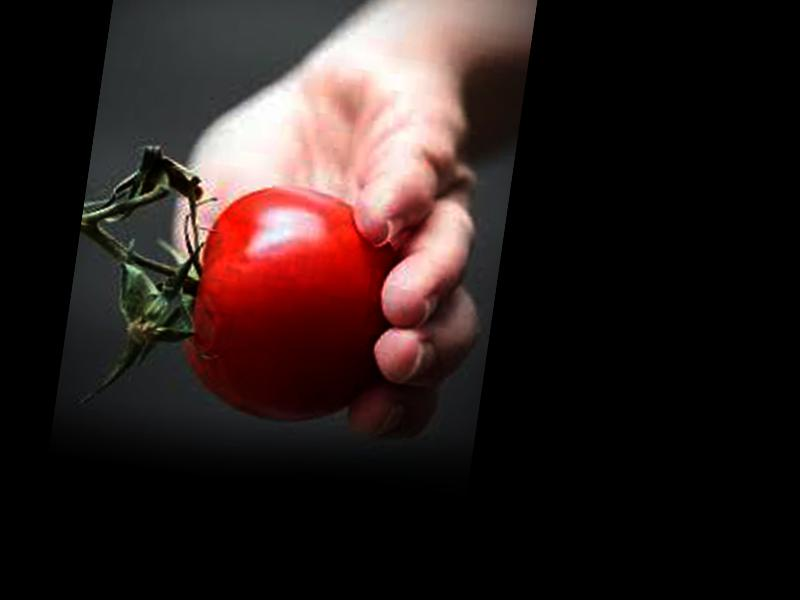Tomato: (171, 176, 406, 434)
